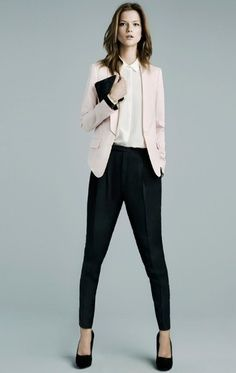F_W_suit jacket: (79, 59, 181, 169)
